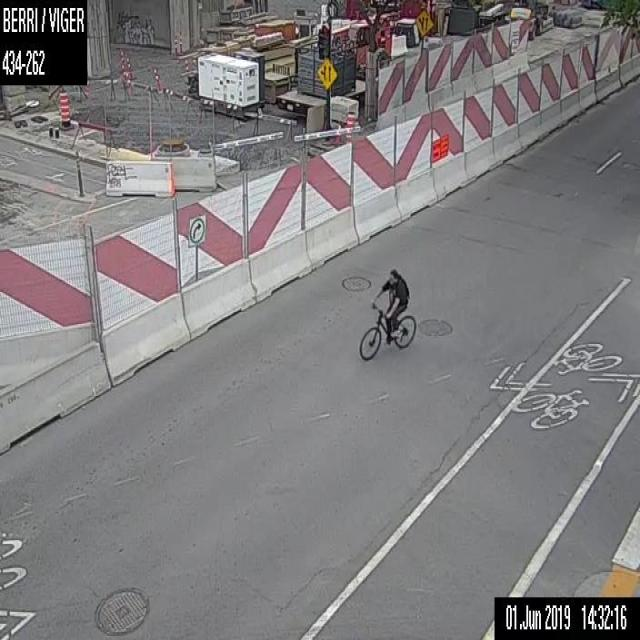construction: (0, 1, 639, 457), (58, 90, 72, 128), (345, 111, 355, 142), (335, 124, 342, 144)
cyclist: (359, 267, 415, 360)
